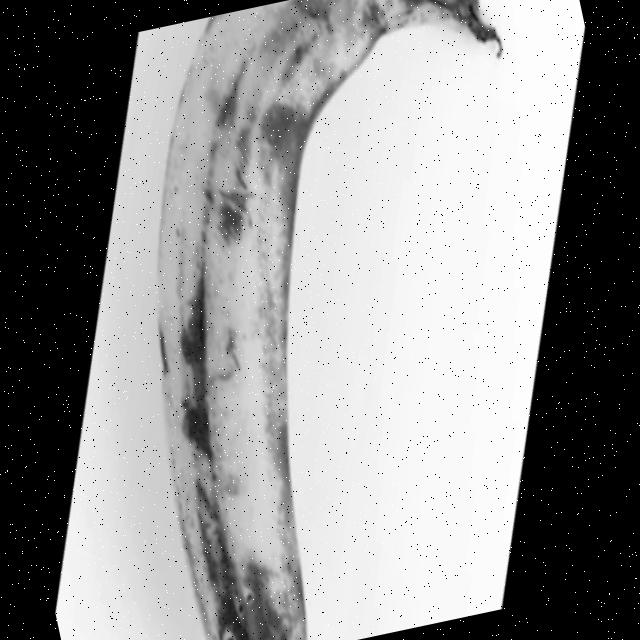overripe: (72, 0, 583, 640)
